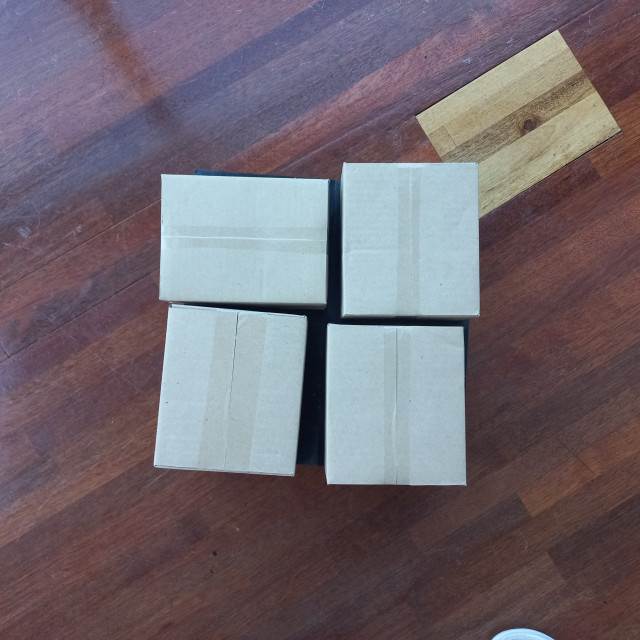box: (327, 161, 446, 336), (208, 152, 318, 319), (313, 330, 442, 469), (198, 320, 306, 481)
